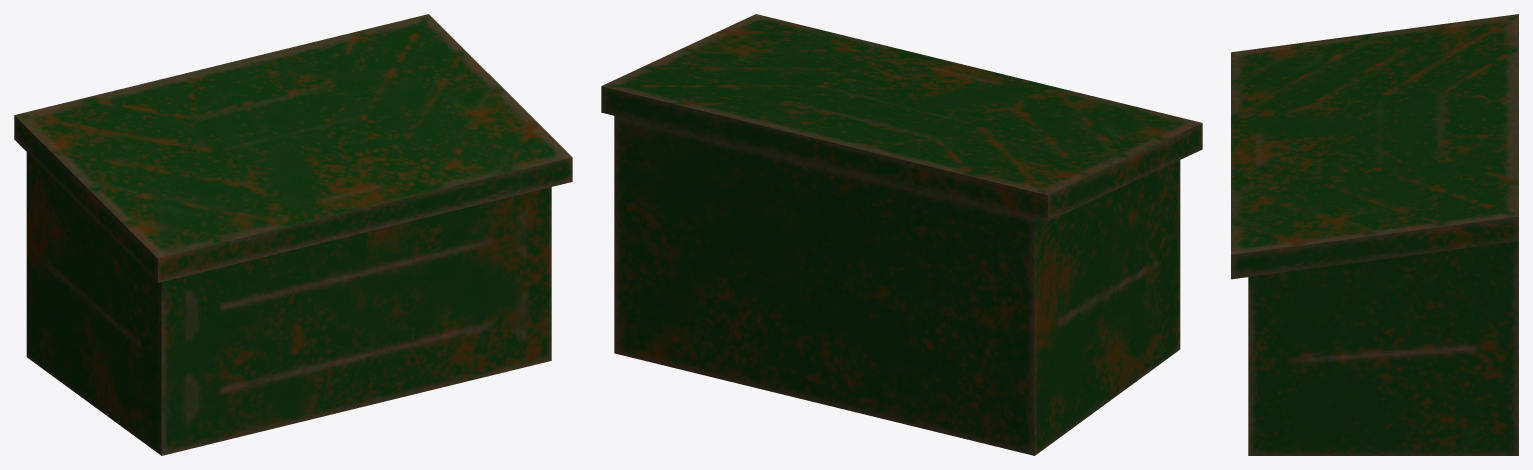
Rendered from SM_container.fbx.
The picture shows the model from 3 angles, left to right: view 1: azimuth 30°, elevation 25°; view 2: azimuth 150°, elevation 25°; view 3: azimuth 270°, elevation 25°; orthographic projection. The views are drawn at different scales.
Visible parts, largest first — view 1: SM_container; view 2: SM_container; view 3: SM_container.
Part boxes in pixels (<box>): SM_container: <box>14,14,572,455</box>; SM_container: <box>601,14,1202,455</box>; SM_container: <box>1231,14,1518,455</box>.
Size of the model in its own units: 266 by 150 by 160.
